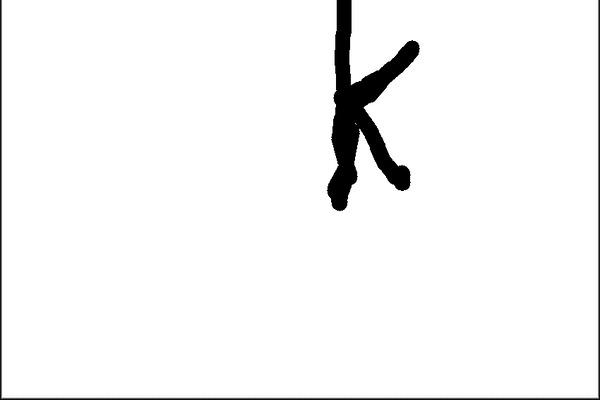K: (316, 2, 424, 216)
